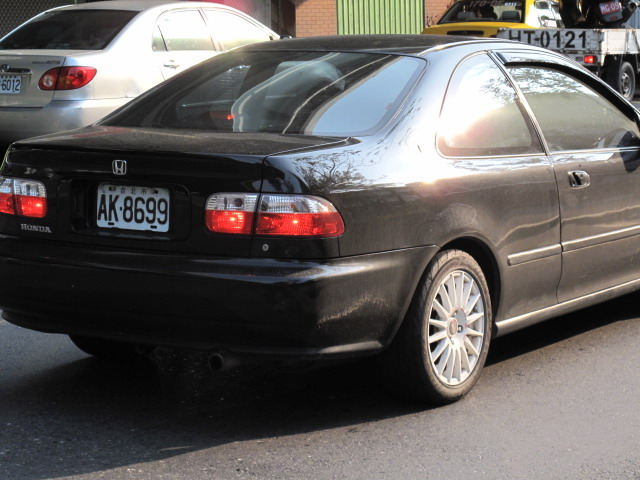plate: (94, 179, 172, 236), (0, 71, 23, 96)
